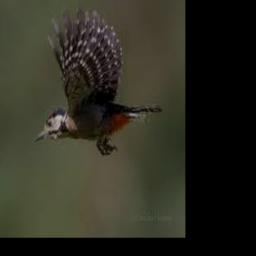Woodpecker: (31, 9, 161, 154)
